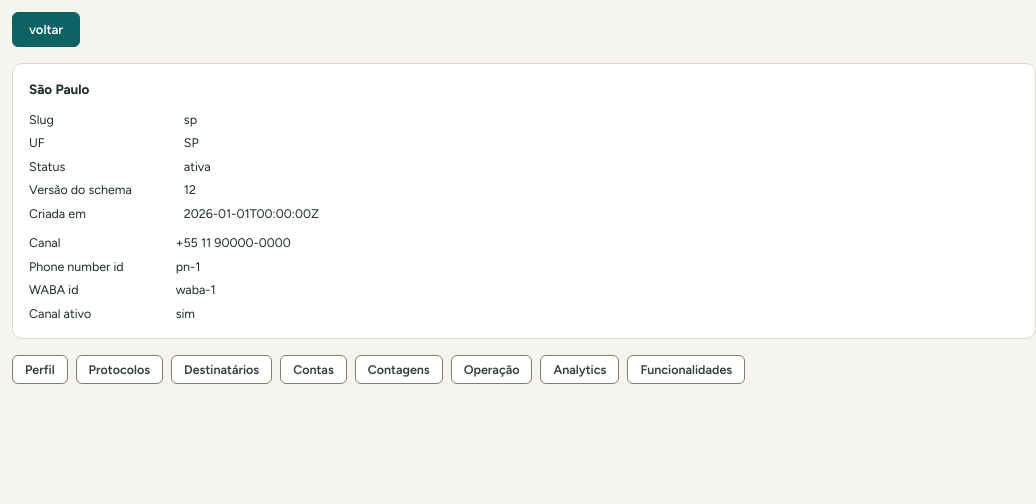
Scenario: CityDetail › CITY_ARCHIVED com a cidade inteira nula (path só ['city']) mostra o código e a mensagem na aba
Expected: the heading "São Paulo" is shown, [29,80,89,99]
Click the button "Contagens" at [399, 370], box [355,355,443,384]
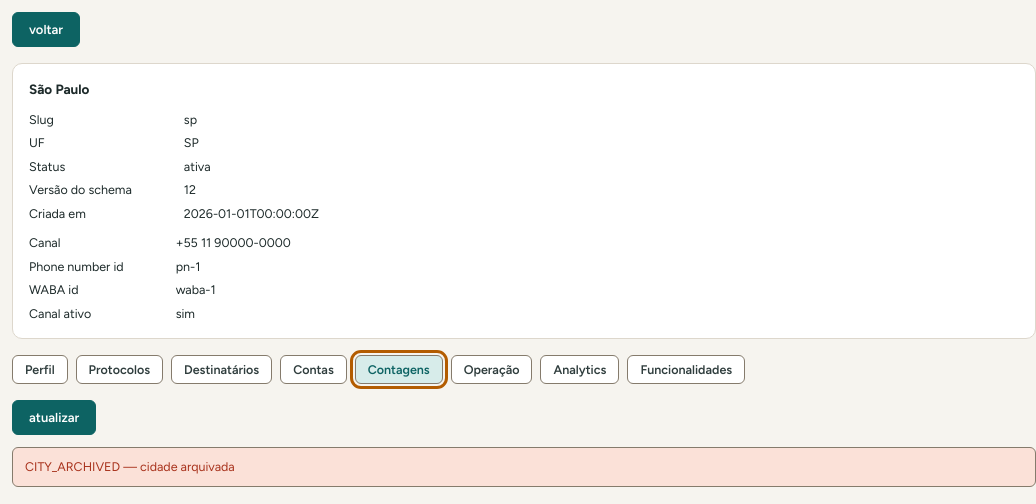
Now the message reads "CITY_ARCHIVED — cidade arquivada", box [25,459,235,474]
